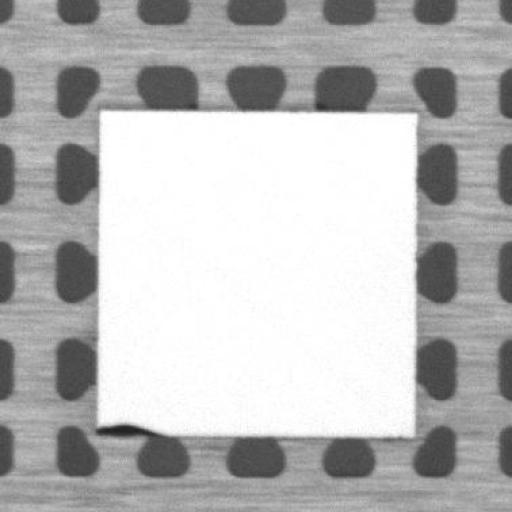DIE_BROKEN: (96, 418, 180, 441)
